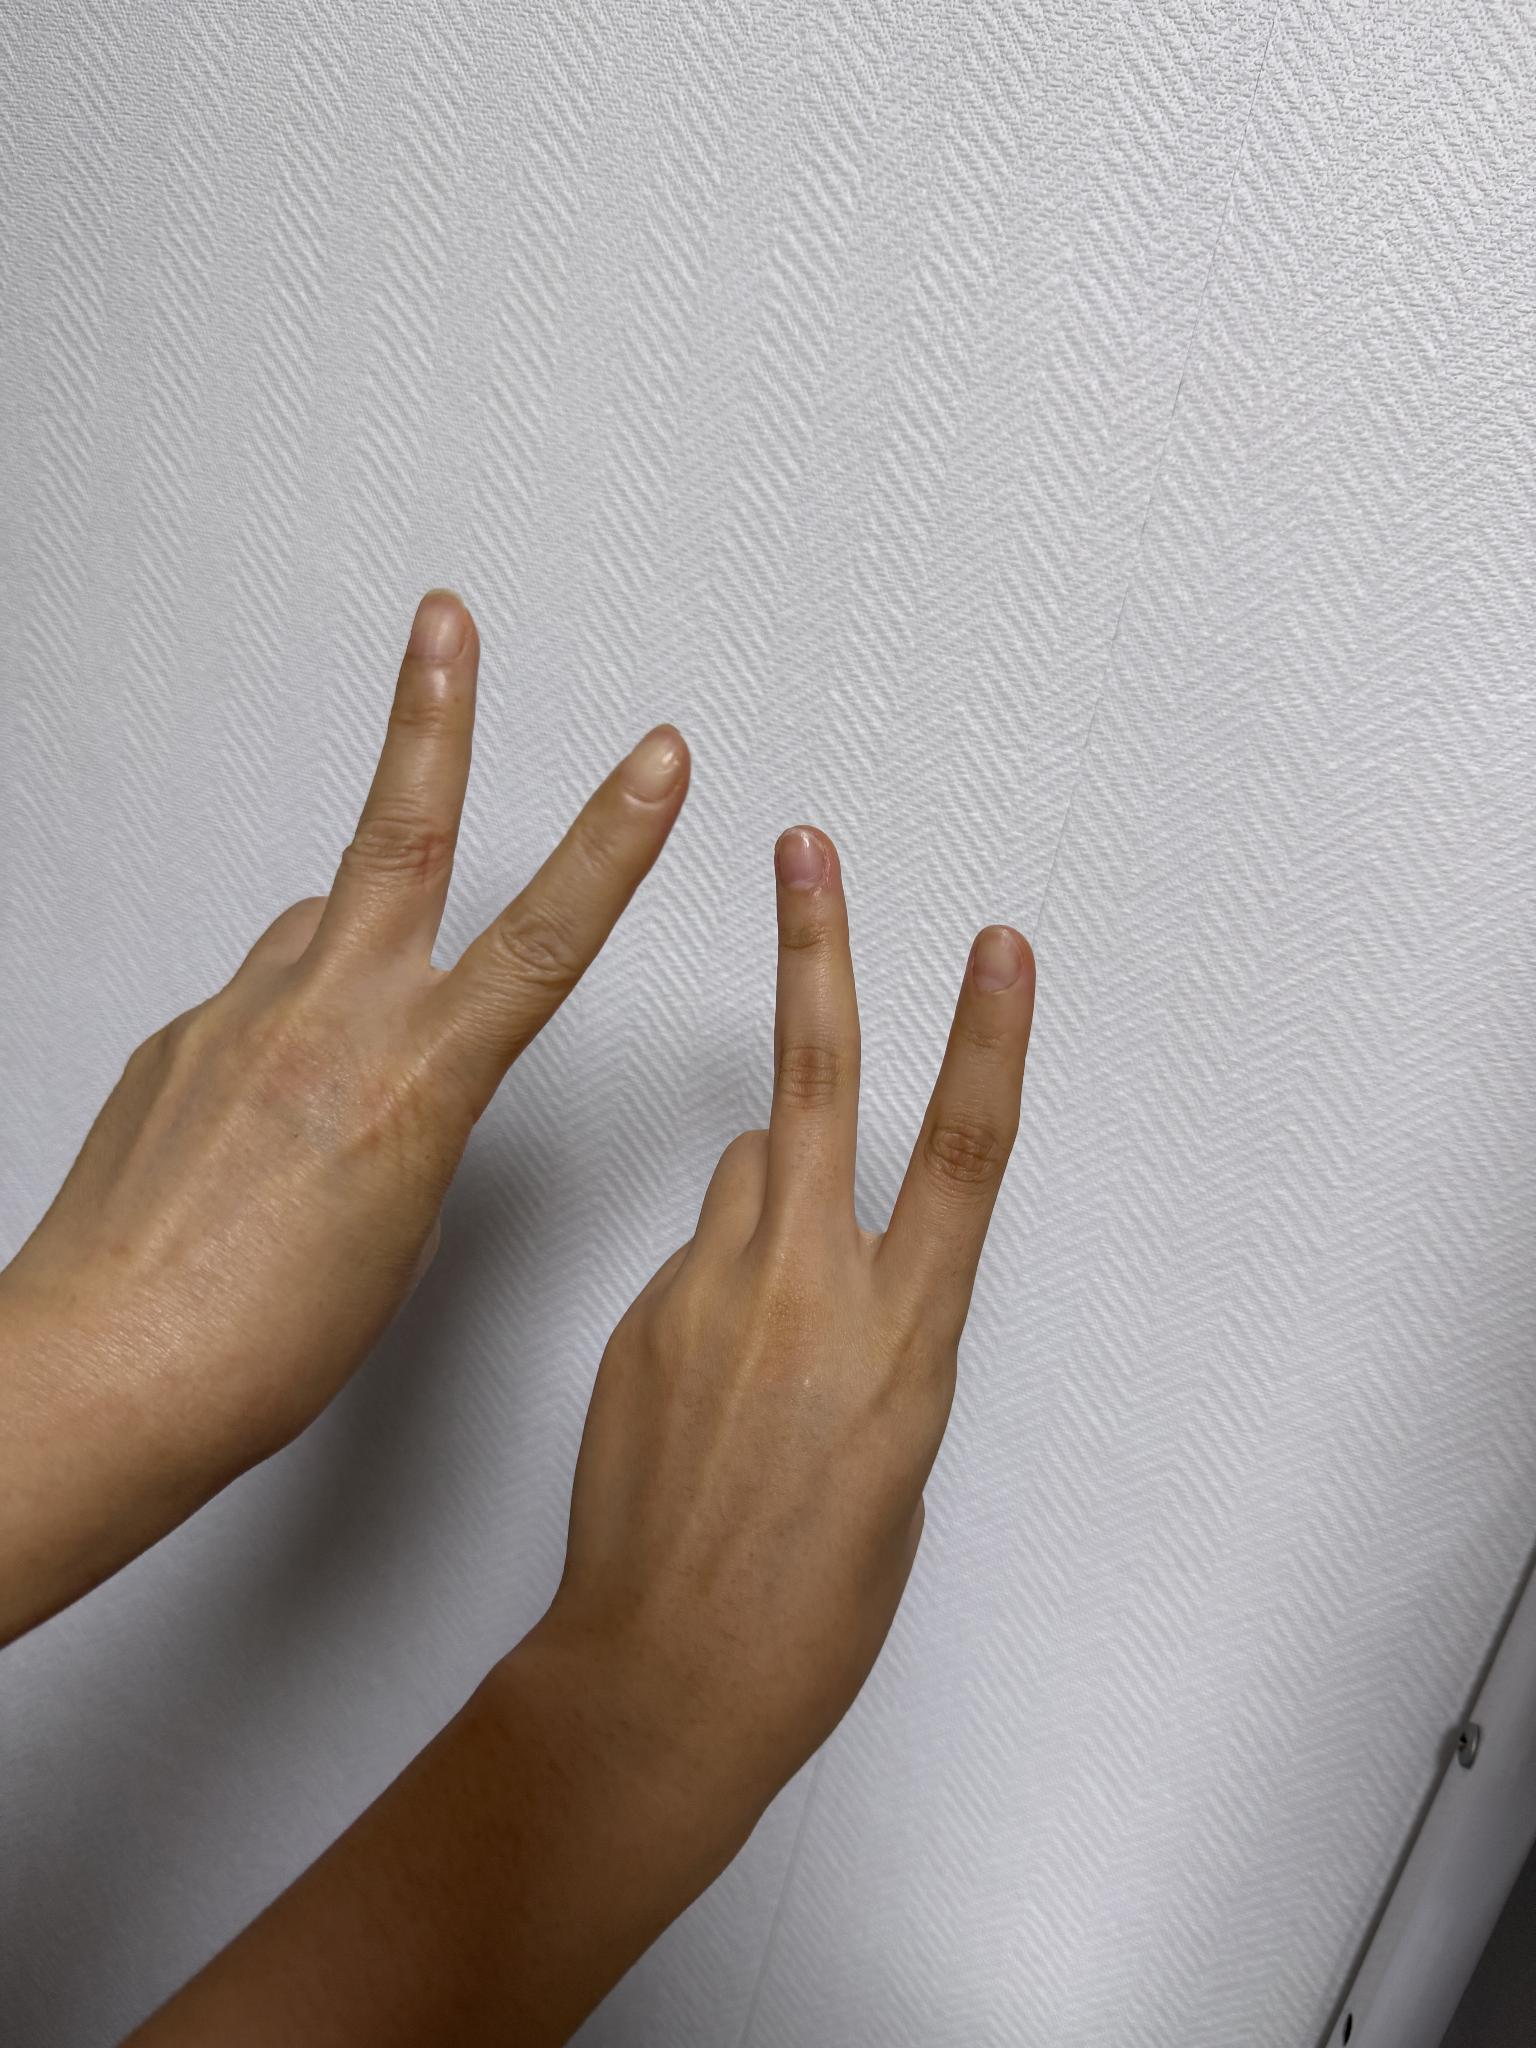v: (0, 589, 691, 1629), (581, 818, 1037, 1813)
